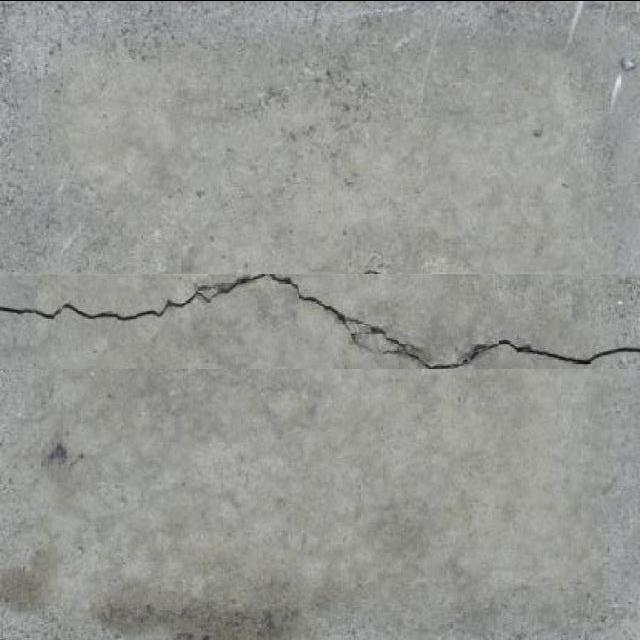crack: (0, 270, 639, 370), (11, 371, 633, 450), (9, 269, 637, 289), (4, 289, 212, 323), (3, 301, 71, 320)
